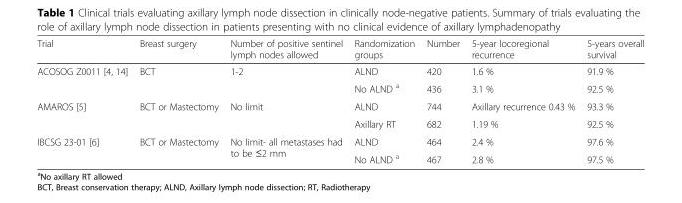table: (36, 37, 643, 164)
table column: (223, 37, 347, 164), (464, 37, 580, 164), (36, 37, 133, 164), (133, 37, 223, 164), (347, 37, 420, 164), (580, 37, 643, 164), (420, 37, 464, 164)
table column header: (36, 37, 643, 62)
table row: (36, 37, 643, 62), (36, 78, 643, 97), (36, 114, 643, 132), (36, 97, 643, 114), (36, 132, 643, 149), (36, 62, 643, 78), (36, 149, 643, 164)
table spanning cell: (223, 62, 347, 97), (223, 97, 347, 132), (223, 132, 347, 164), (36, 62, 133, 97), (36, 97, 133, 132), (133, 62, 223, 97), (133, 97, 223, 132), (36, 132, 133, 164), (133, 132, 223, 164)
